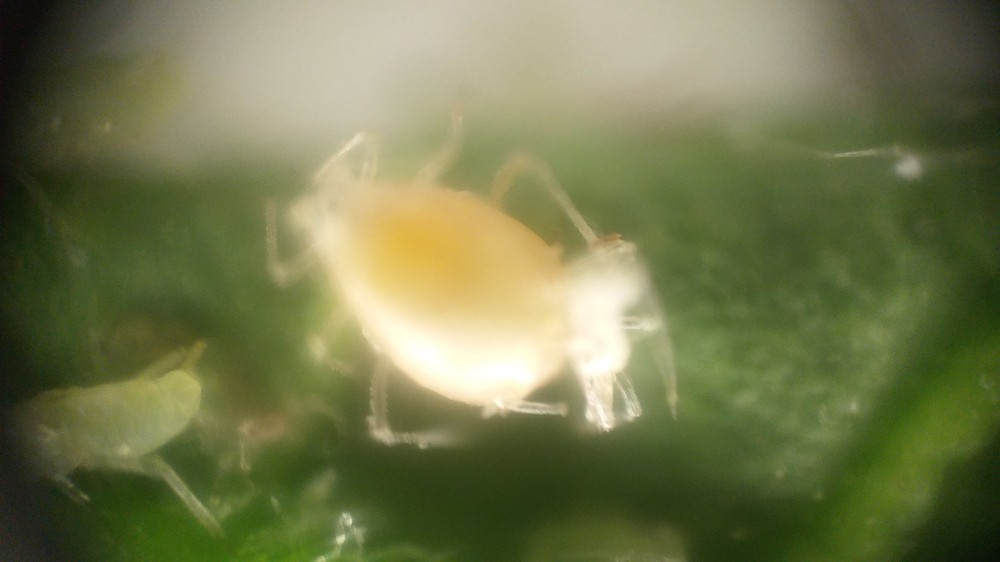Pulgon: (240, 136, 694, 451)
